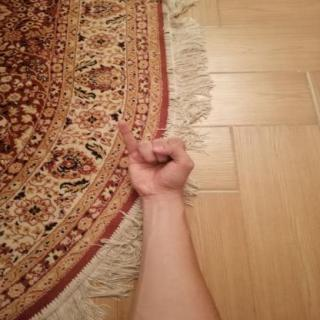MEEM: (109, 114, 202, 204)
